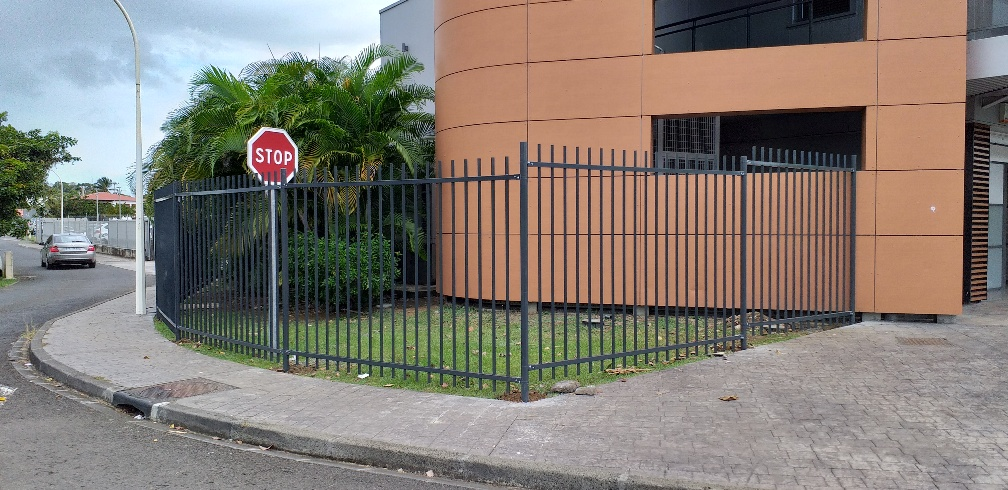Arbol: (161, 84, 419, 313)
Cartel: (248, 126, 298, 185)
Muro: (431, 4, 967, 318)
Valla: (523, 143, 861, 374), (179, 168, 520, 371)
